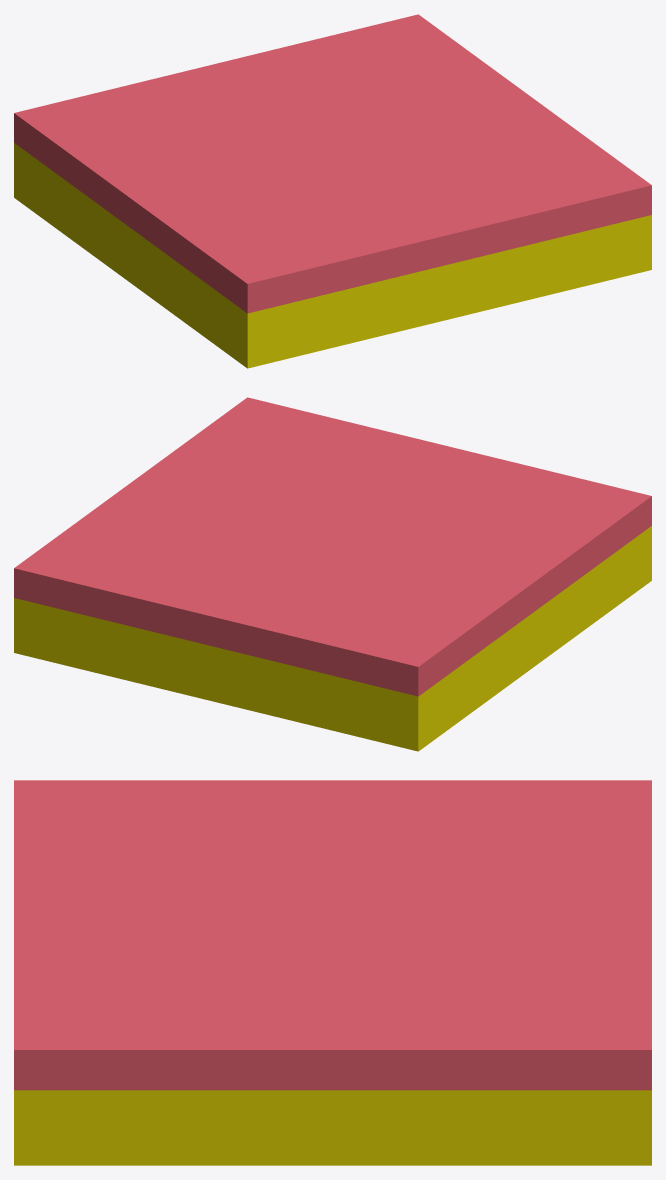
File: ground-egypt.fbx
3 renders of one model, top to bottom at view 1: azimuth 30°, elevation 25°; view 2: azimuth 150°, elevation 25°; view 3: azimuth 270°, elevation 25°, orthographic. The views are drawn at different scales.
Parts seen in each view (by area): view 1: ground-egypt; view 2: ground-egypt; view 3: ground-egypt.
Part boxes in pixels (<box>): ground-egypt: <box>14,14,651,368</box>; ground-egypt: <box>14,397,651,751</box>; ground-egypt: <box>14,780,651,1165</box>.
Size of the model in its own units: 30 by 6 by 30.
